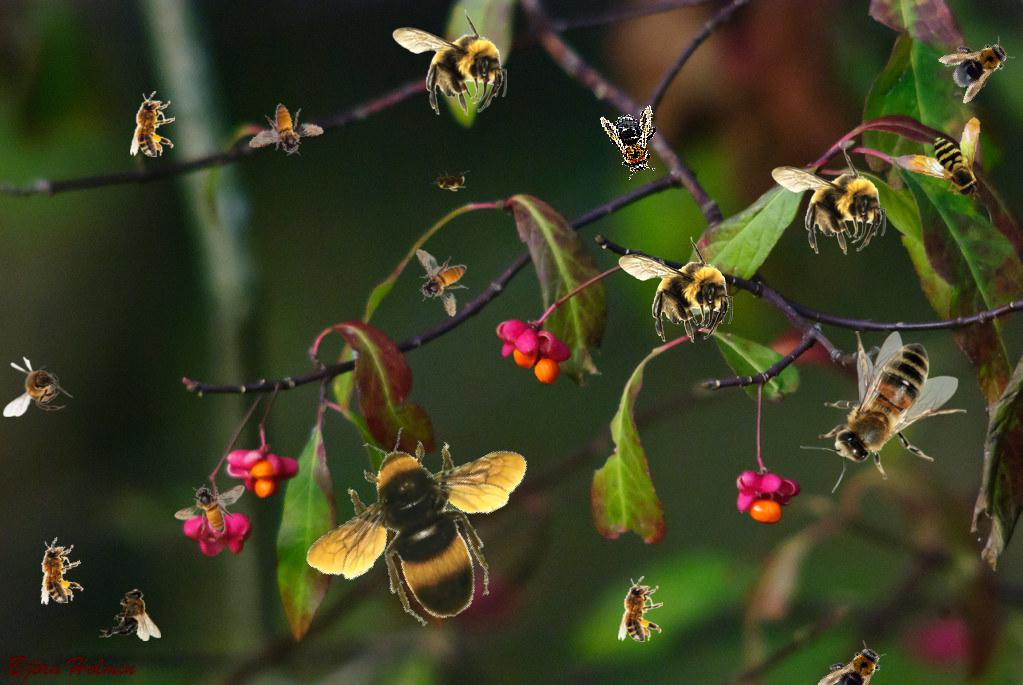Bee: (283, 372, 571, 665), (800, 331, 967, 493), (771, 148, 886, 255), (392, 9, 507, 116), (618, 236, 733, 343), (891, 109, 989, 201), (936, 23, 1022, 105), (599, 103, 669, 183), (248, 98, 328, 163), (815, 631, 897, 685), (415, 244, 471, 321), (3, 356, 73, 417), (31, 534, 87, 607), (174, 484, 245, 534), (99, 588, 161, 641), (618, 576, 663, 642), (130, 91, 175, 157), (430, 170, 470, 192)
